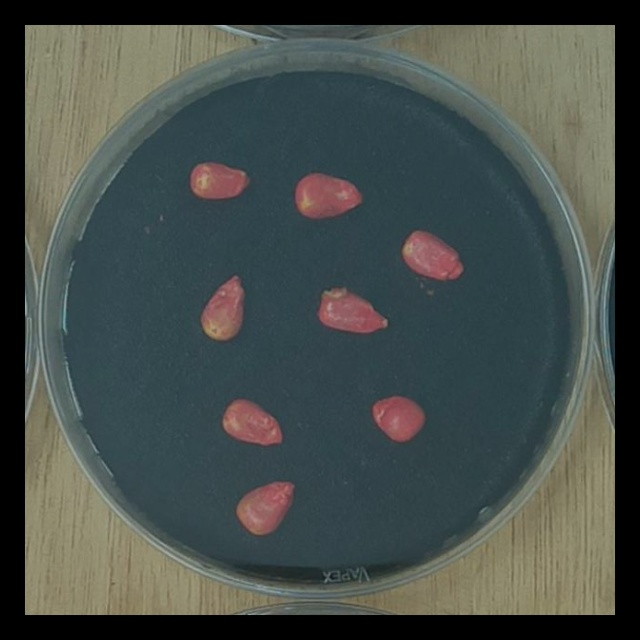Zea mays: (309, 280, 396, 341), (228, 473, 301, 542), (394, 223, 471, 287), (288, 166, 368, 225), (192, 267, 250, 347), (216, 392, 289, 453), (183, 154, 257, 207), (366, 390, 431, 449)
